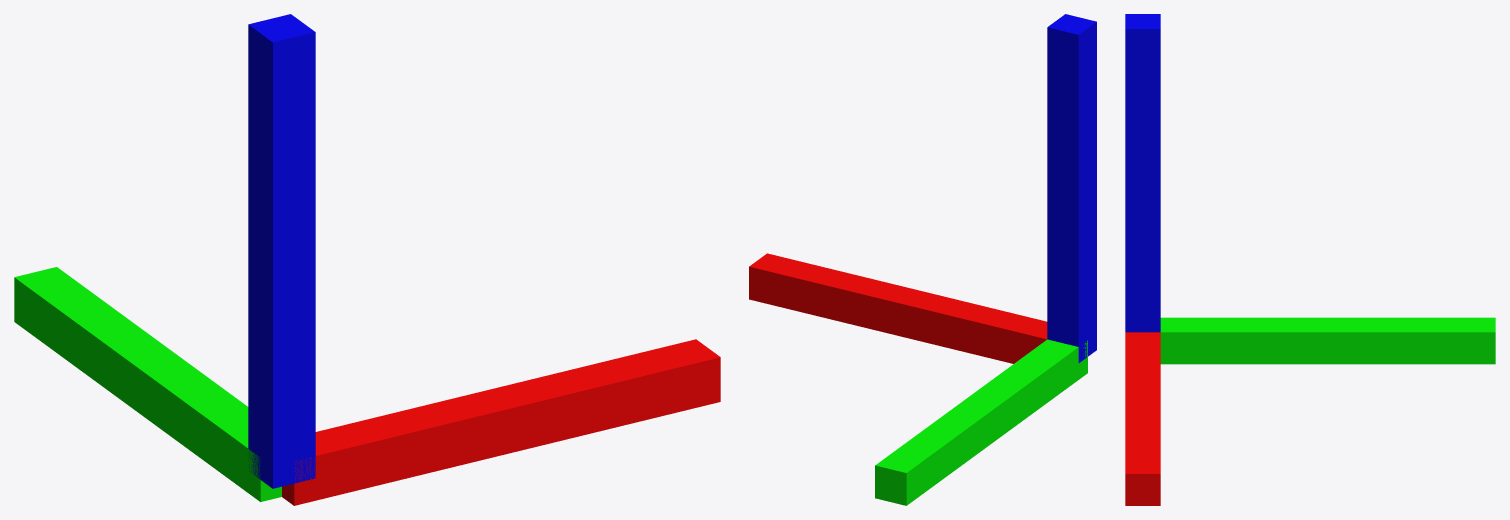
The model's file is axis-right-handed.glb.
3 views of the same model, side by side, from view 1: azimuth 30°, elevation 25°; view 2: azimuth 150°, elevation 25°; view 3: azimuth 270°, elevation 25° (orthographic). The views are drawn at different scales.
Visible parts, largest first — view 1: Z, X, Y; view 2: Z, X, Y; view 3: Y, Z, X.
Part boxes in pixels (x1,y1,x2,y2): Z: (248, 14, 315, 488); X: (282, 339, 720, 505); Y: (14, 267, 281, 501); Z: (1047, 14, 1096, 362); X: (749, 253, 1047, 363); Y: (875, 339, 1087, 505); Y: (1160, 317, 1495, 364); Z: (1125, 14, 1160, 332); X: (1125, 332, 1160, 505).
Bounding box in the file's own units: 2.1 × 2.1 × 2.1.
